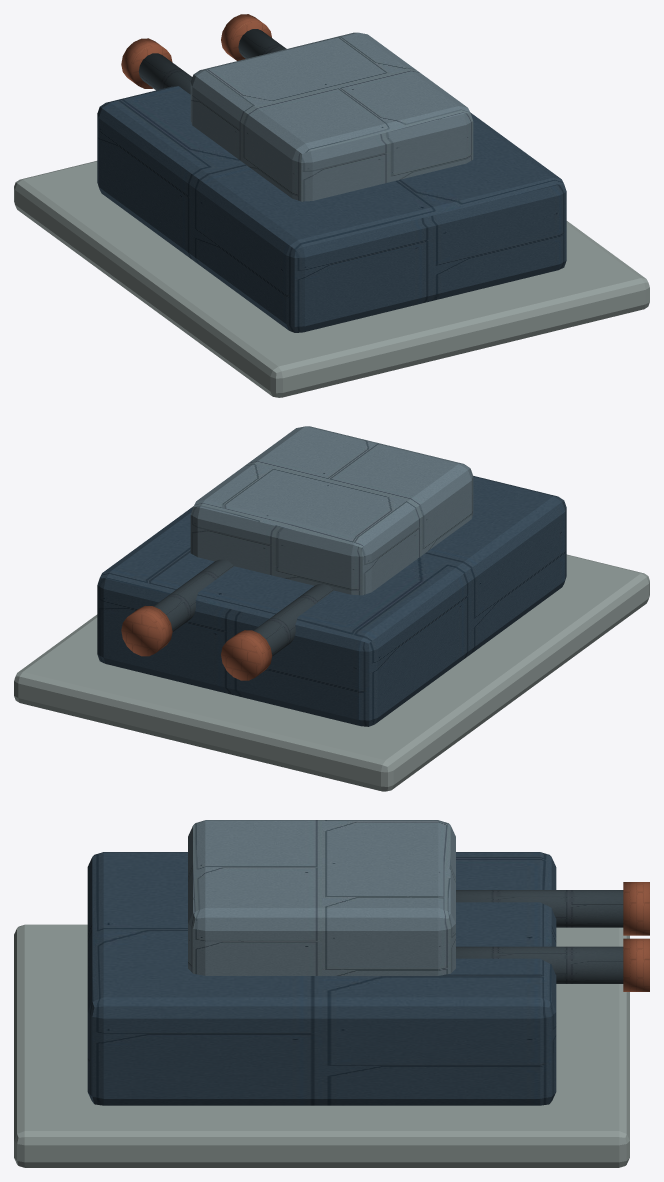
The model's file is turret.glb.
The picture shows the model from 3 angles, top to bottom: view 1: azimuth 30°, elevation 25°; view 2: azimuth 150°, elevation 25°; view 3: azimuth 270°, elevation 25°; orthographic projection. The views are drawn at different scales.
Parts seen in each view (by area): view 1: core-navy-surfaces, core-Roof membrane-surfaces, core-titanium-surfaces, core-graphite-surfaces, core-hostile-surfaces; view 2: core-navy-surfaces, core-Roof membrane-surfaces, core-titanium-surfaces, core-hostile-surfaces, core-graphite-surfaces; view 3: core-navy-surfaces, core-Roof membrane-surfaces, core-titanium-surfaces, core-graphite-surfaces, core-hostile-surfaces.
Boxes of the visible parts, box(x1,y1,x2,y2) form: core-navy-surfaces: box(97, 86, 566, 332); core-Roof membrane-surfaces: box(14, 161, 649, 397); core-titanium-surfaces: box(190, 32, 473, 201); core-graphite-surfaces: box(138, 29, 286, 94); core-hostile-surfaces: box(121, 14, 271, 88); core-navy-surfaces: box(97, 476, 566, 726); core-Roof membrane-surfaces: box(14, 554, 649, 791); core-titanium-surfaces: box(190, 426, 473, 595); core-hostile-surfaces: box(121, 605, 272, 680); core-graphite-surfaces: box(154, 559, 333, 656); core-navy-surfaces: box(87, 852, 556, 1105); core-Roof membrane-surfaces: box(14, 924, 629, 1167); core-titanium-surfaces: box(188, 820, 455, 975); core-graphite-surfaces: box(456, 890, 623, 983); core-hostile-surfaces: box(623, 882, 649, 991).
Bounding box in the file's own units: 3.8 × 1.65 × 4.75.
Materials: 5 (4 with a texture image).
